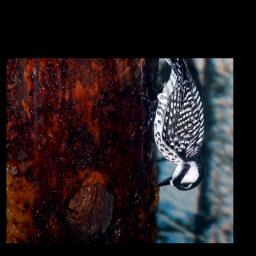Woodpecker: (141, 59, 209, 196)
